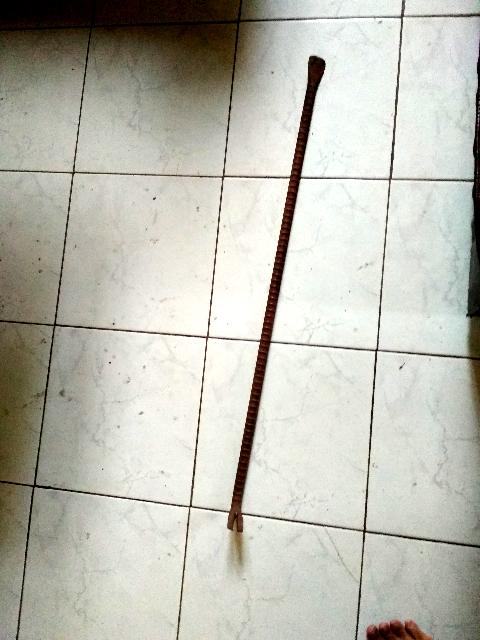crow bar: (215, 43, 331, 538)
